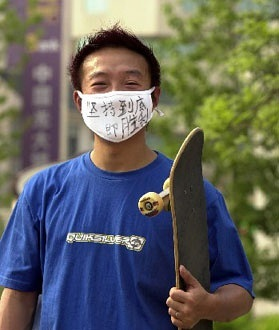face_mask: (81, 46, 150, 140)
